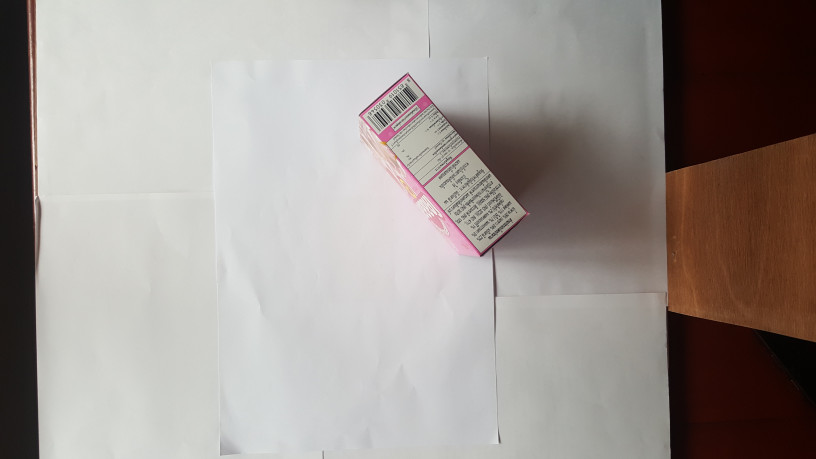collon-strawberry: (358, 69, 528, 262)
